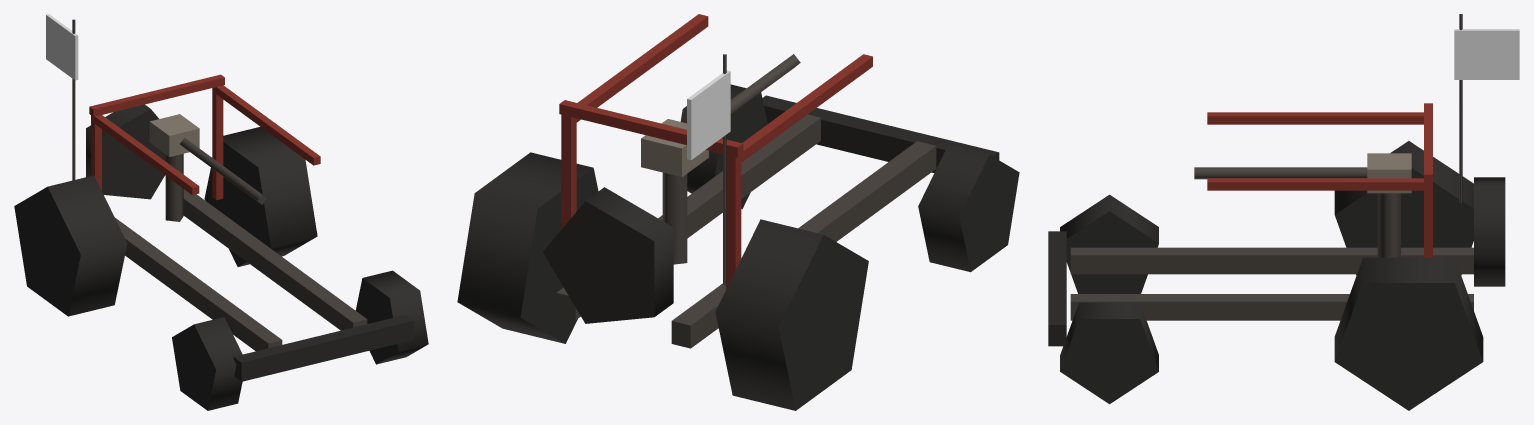
3 renders of one model, left to right at view 1: azimuth 30°, elevation 25°; view 2: azimuth 150°, elevation 25°; view 3: azimuth 270°, elevation 25°, orthographic. The views are drawn at different scales.
Visible parts, largest first — view 1: raider_vehicle_buggy; view 2: raider_vehicle_buggy; view 3: raider_vehicle_buggy.
Part boxes in pixels (x1,y1,x2,y2): raider_vehicle_buggy: (14, 14, 428, 410); raider_vehicle_buggy: (457, 14, 1019, 410); raider_vehicle_buggy: (1048, 14, 1519, 410).
Size of the model in its own units: 2.34 by 2.5 by 3.62.
